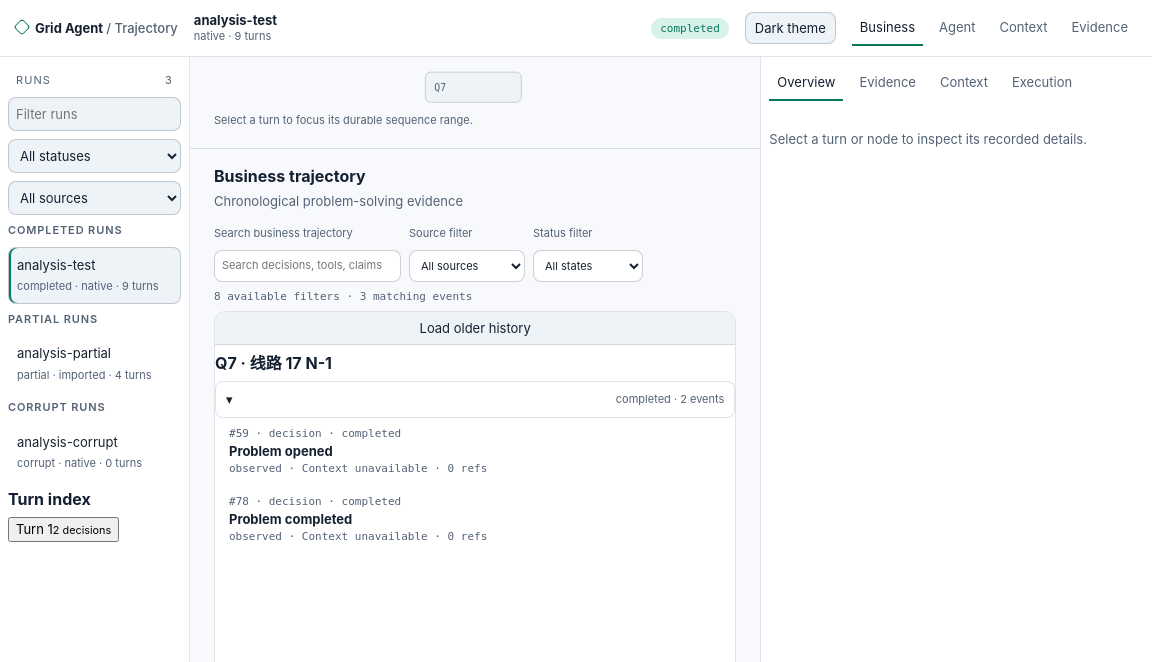
Scenario: App shell › fetches the older cursor once and prepends its problems before the current page
This screenshot has width=1152, height=662.
Expected: the button with aria-label "fold q7" is shown, top-left (215, 381), bottom-right (735, 418)
Click the button "Load older history" at {"x": 475, "y": 329}, box top-left (215, 312), bottom-right (735, 345)
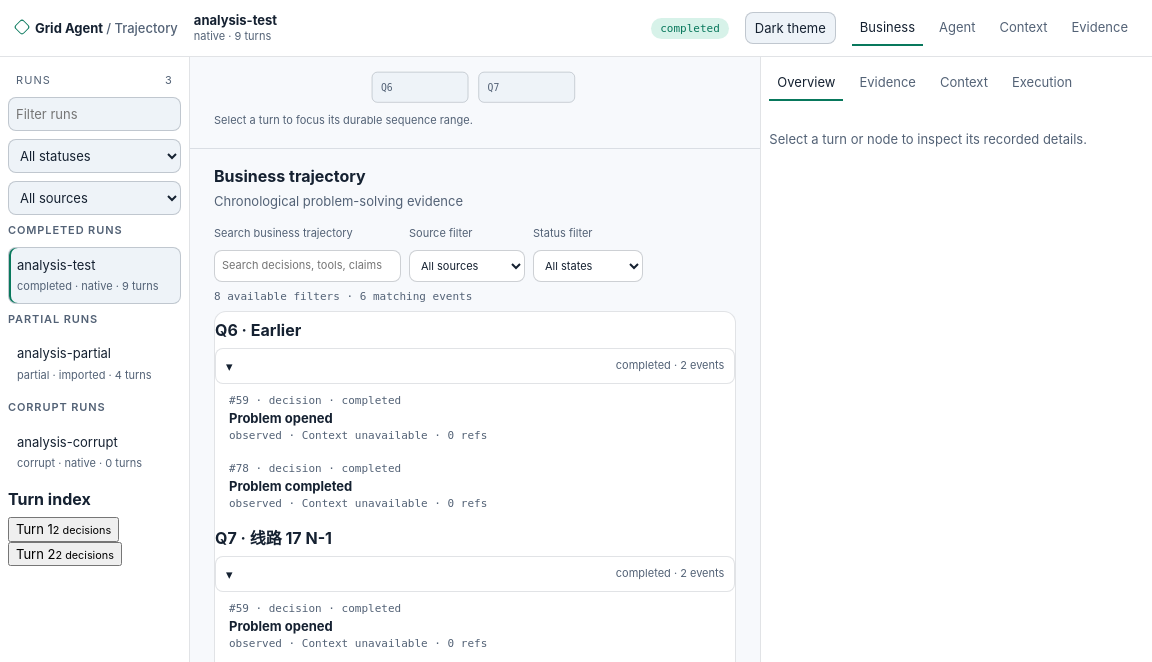
Now the heading "Q6 · Earlier" is shown, box top-left (215, 320), bottom-right (301, 340)
